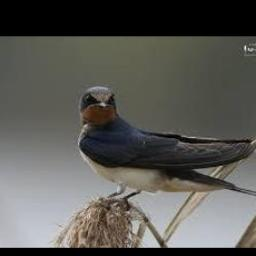Swallow: (77, 86, 256, 200)
